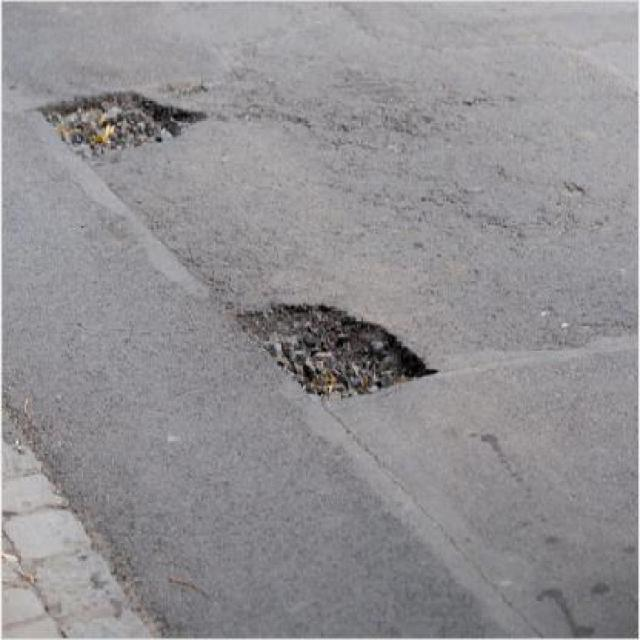Pothole: (236, 282, 442, 413), (34, 84, 214, 173)
